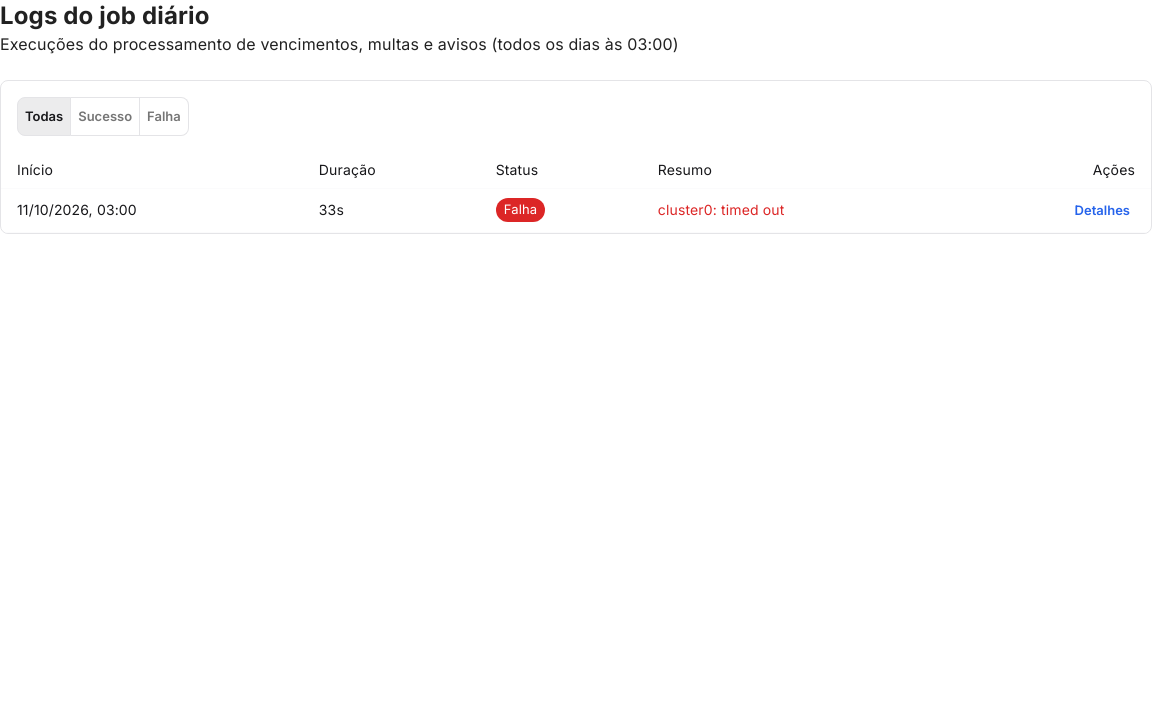
Test: lista execuções e mostra o traceback da falha
Check: the text "cluster0: timed out" is shown, box 658,201 -> 785,218
Check: the text "33s" is shown, box 303,188 -> 480,232
Click the button "Detalhes". click: (1102, 210)
box: 1070,195 -> 1135,226
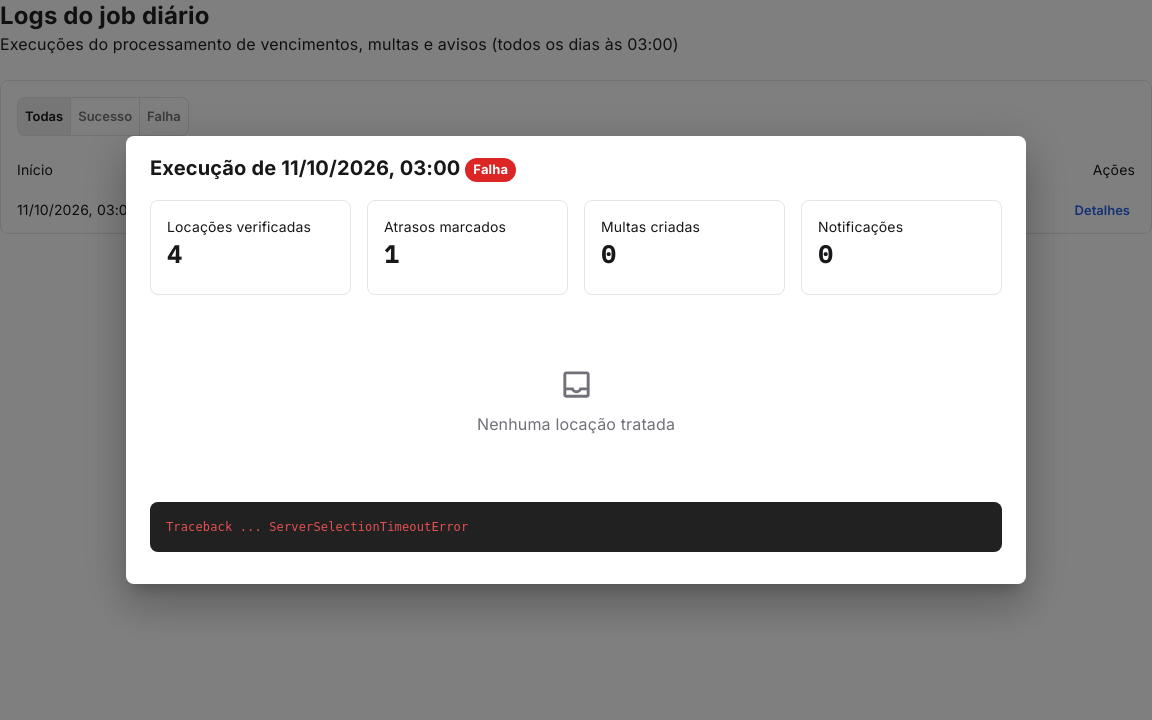
Check: the text "Traceback ... ServerSelectionTimeoutError" is shown, box 150,502 -> 1002,552
